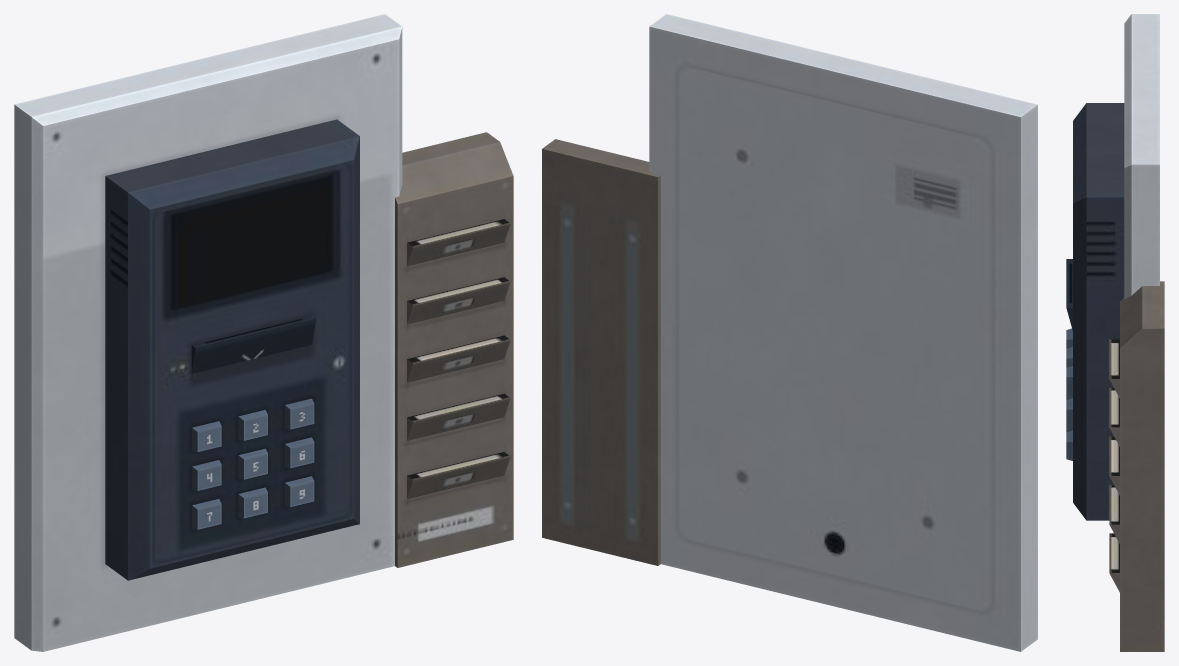
The model's file is yard-access-node-body-authored-v2.glb.
The picture shows the model from 3 angles, left to right: view 1: azimuth 30°, elevation 25°; view 2: azimuth 150°, elevation 25°; view 3: azimuth 270°, elevation 25°; orthographic projection. The views are drawn at different scales.
Visible parts, largest first — view 1: Yard-access-node-bodyBody; view 2: Yard-access-node-bodyBody; view 3: Yard-access-node-bodyBody.
Boxes of the visible parts, box(x1,y1,x2,y2) form: Yard-access-node-bodyBody: box(14, 14, 513, 651); Yard-access-node-bodyBody: box(542, 14, 1037, 651); Yard-access-node-bodyBody: box(1066, 14, 1164, 651).
Size of the model in its own units: 1.02 by 1.1 by 0.22.
Materials: 1 (1 with a texture image).
